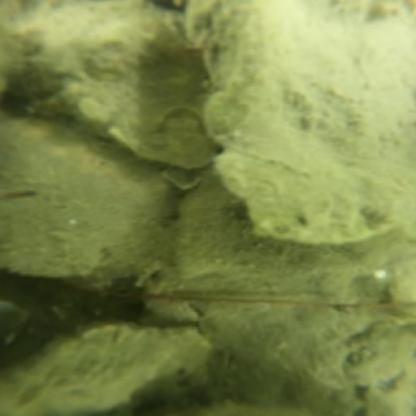Oyster-Closed: (0, 0, 211, 173), (0, 323, 211, 415)
Oyster-Open: (184, 0, 415, 242), (1, 113, 176, 281)
